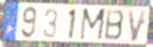1: (66, 8, 77, 40)
3: (42, 7, 59, 39)
9: (19, 5, 38, 40)
B: (103, 9, 126, 42)
M: (78, 7, 108, 42)
V: (126, 9, 148, 43)
